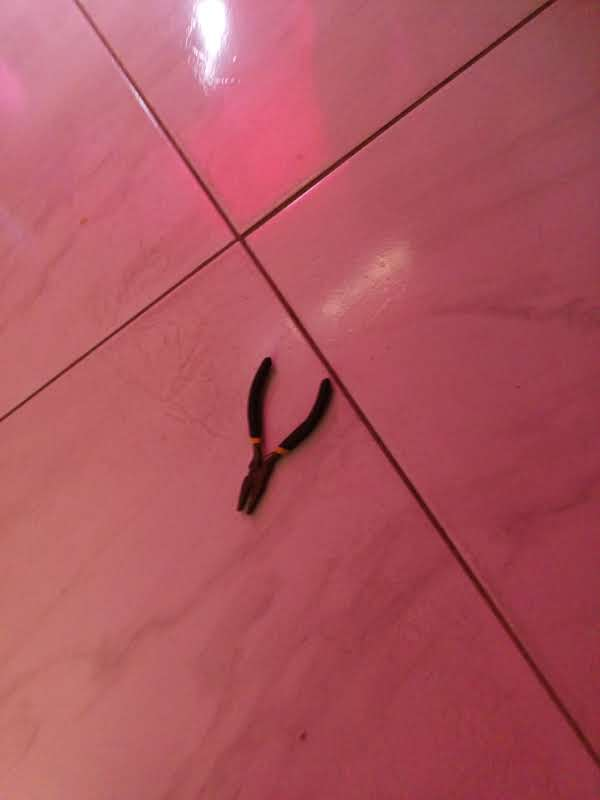Pinzas: (237, 357, 332, 513)
